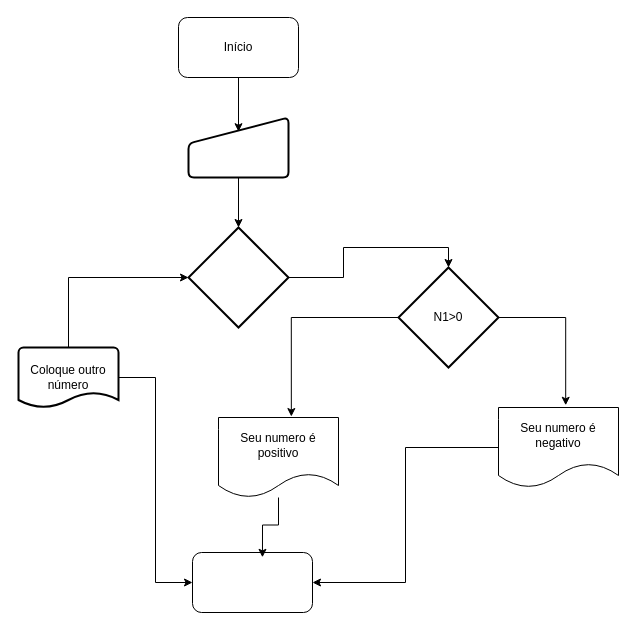
The diagram is 636 pixels wide and 630 high, and some of its shapes have lost their labels. The shapes that lost their labels are listed below. From the top down, each one's centre as x and y in pixels, then its label:
At [238,147]: "N1".
At [238,277]: "N1=0".
At [252,582]: "Fim".
